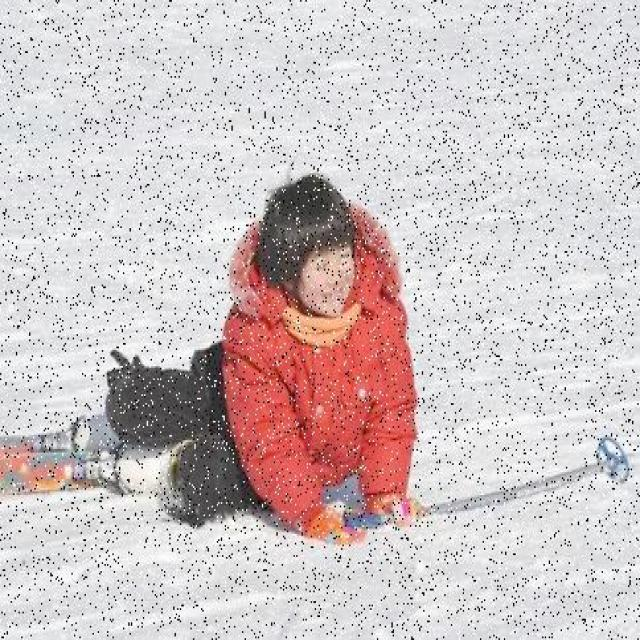fall: (51, 186, 432, 523)
